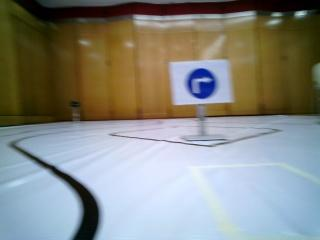right: (173, 65, 232, 102)
